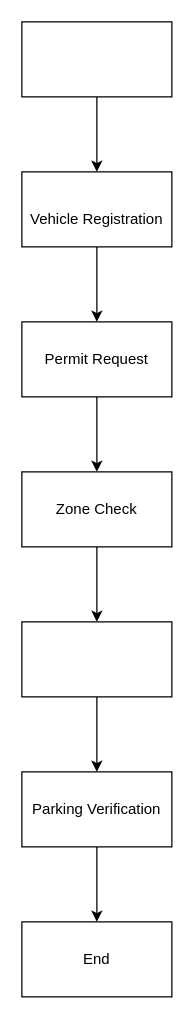
Some shapes in this 194 by 1019 pixel diagram are drawn without their labels. Here are the shapes that lost their labels. From the top down, the box of each, then its label:
(21, 21, 172, 97): Start
(21, 621, 172, 697): Permit Approval
